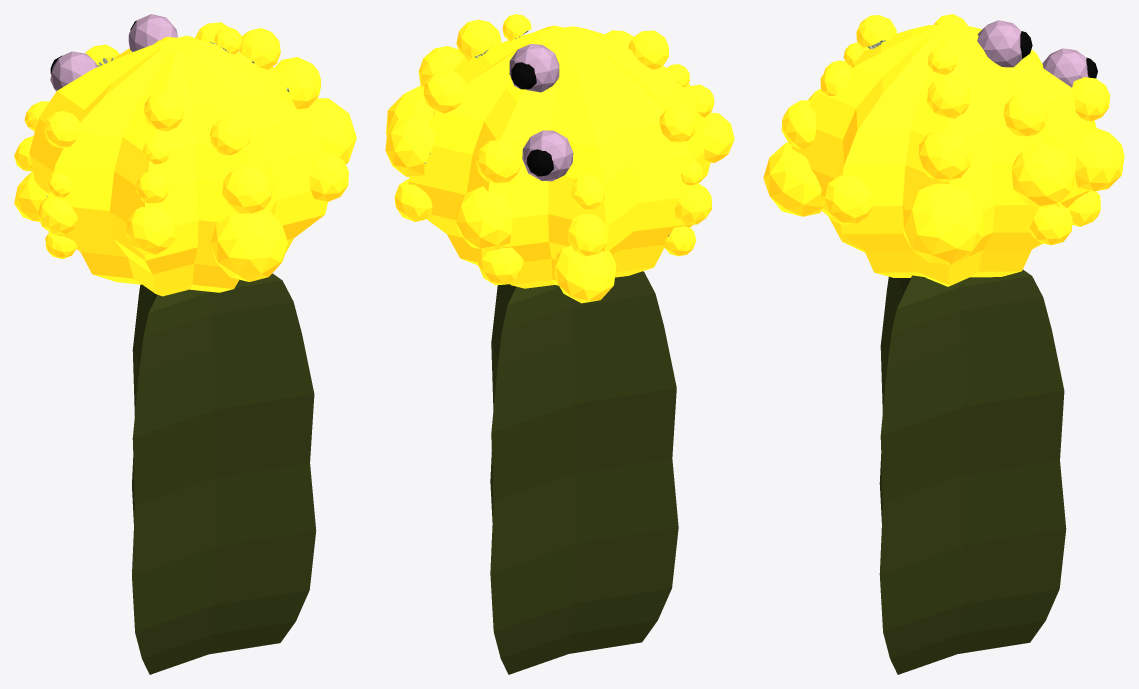
File: very-glowy-yellow-cactus.fbx
The picture shows the model from 3 angles, left to right: view 1: azimuth 30°, elevation 25°; view 2: azimuth 150°, elevation 25°; view 3: azimuth 270°, elevation 25°; orthographic projection. The views are drawn at different scales.
Parts seen in each view (by area): view 1: Cylinder.003; view 2: Cylinder.003; view 3: Cylinder.003.
Part boxes in pixels (box(x1,y1,x2,y2)): Cylinder.003: box(14, 14, 356, 674); Cylinder.003: box(385, 14, 734, 674); Cylinder.003: box(763, 14, 1124, 674).
Bounding box in the file's own units: 245 × 455 × 242.
